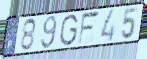4: (99, 8, 117, 43)
5: (121, 5, 140, 41)
8: (19, 17, 38, 53)
9: (40, 15, 59, 50)
F: (76, 9, 101, 47)
G: (59, 13, 79, 47)
